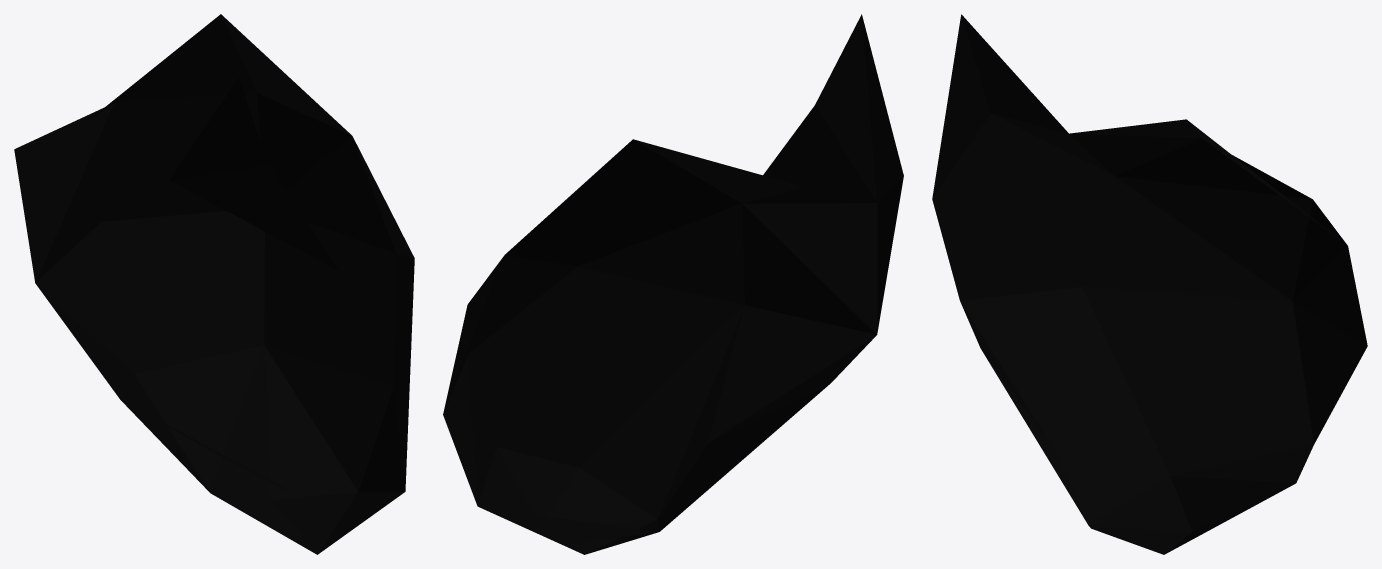
3 renders of one model, left to right at view 1: azimuth 30°, elevation 25°; view 2: azimuth 150°, elevation 25°; view 3: azimuth 270°, elevation 25°, orthographic. The views are drawn at different scales.
Bounding box in the file's own units: 0.2456 × 0.348 × 0.3048.
1 material, 1 textured.
